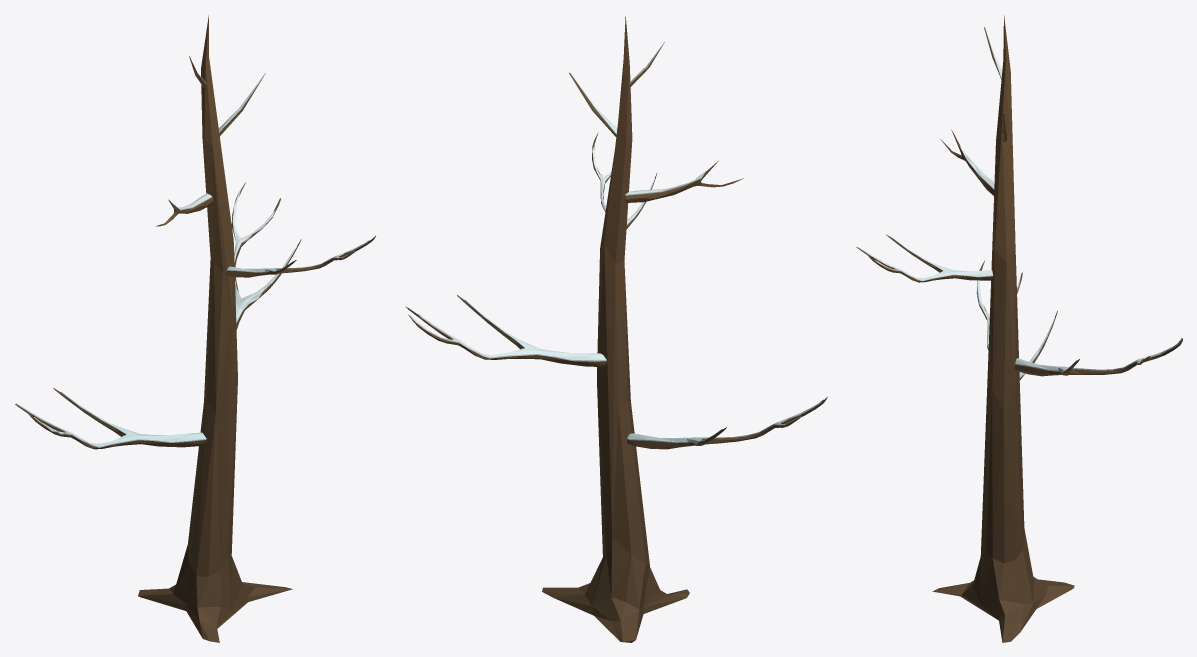
Rendered from Winter_Tree_11.glb.
3 views of the same model, side by side, from view 1: azimuth 30°, elevation 25°; view 2: azimuth 150°, elevation 25°; view 3: azimuth 270°, elevation 25° (orthographic).
Visible parts, largest first — view 1: Winter_Tree_11_LOD0; view 2: Winter_Tree_11_LOD0; view 3: Winter_Tree_11_LOD0.
Boxes of the visible parts, box(x1,y1,x2,y2) form: Winter_Tree_11_LOD0: box(15, 15, 375, 642); Winter_Tree_11_LOD0: box(405, 16, 827, 642); Winter_Tree_11_LOD0: box(856, 15, 1182, 642).
Size of what is drawn, in the model's own units: 5.44 by 9.13 by 4.58.
Materials: 1 (1 with a texture image).
